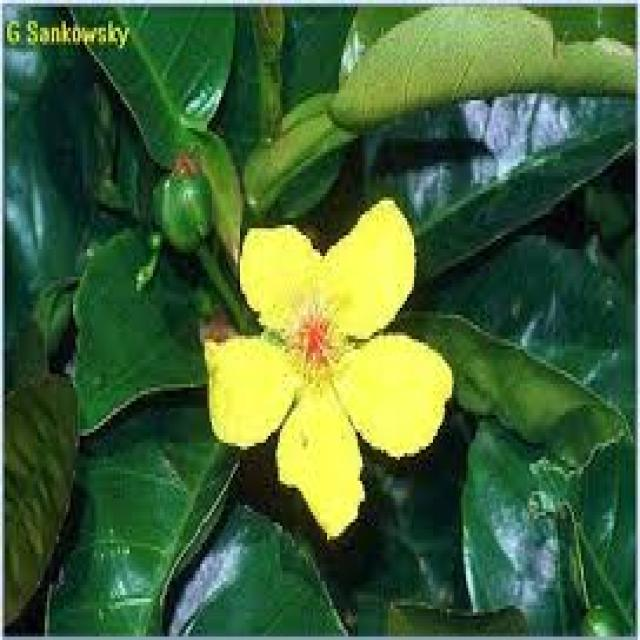Simpoh-Lak: (183, 211, 482, 529)
